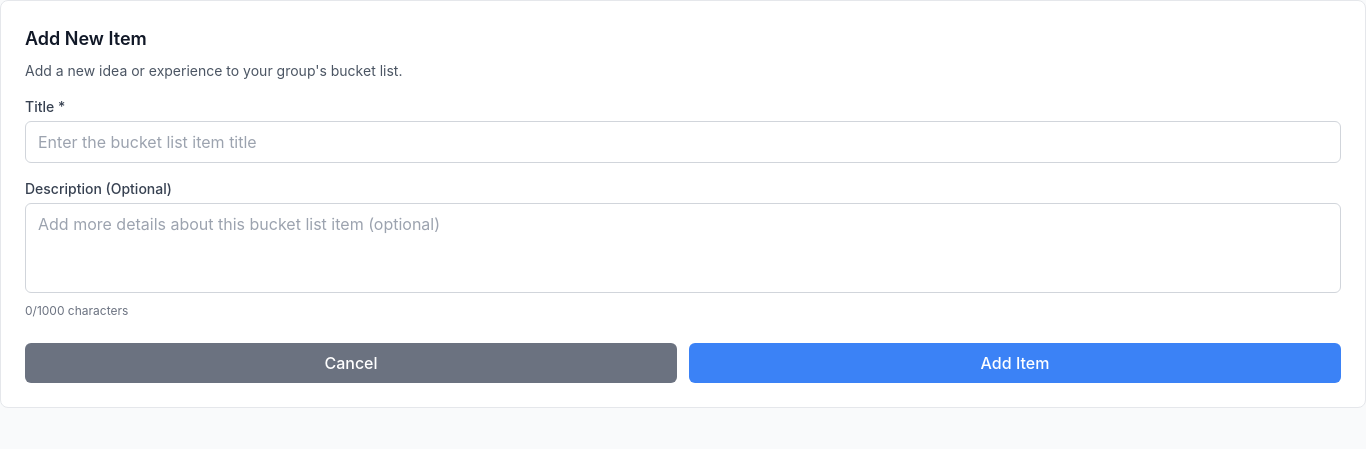
Test: AddItemForm › clears validation errors when user starts typing
This screenshot has width=1366, height=449.
First trigger validation error
Step 1. Click the button "Add Item" → (1015, 363), box x1=689 y1=343 x2=1341 y2=383
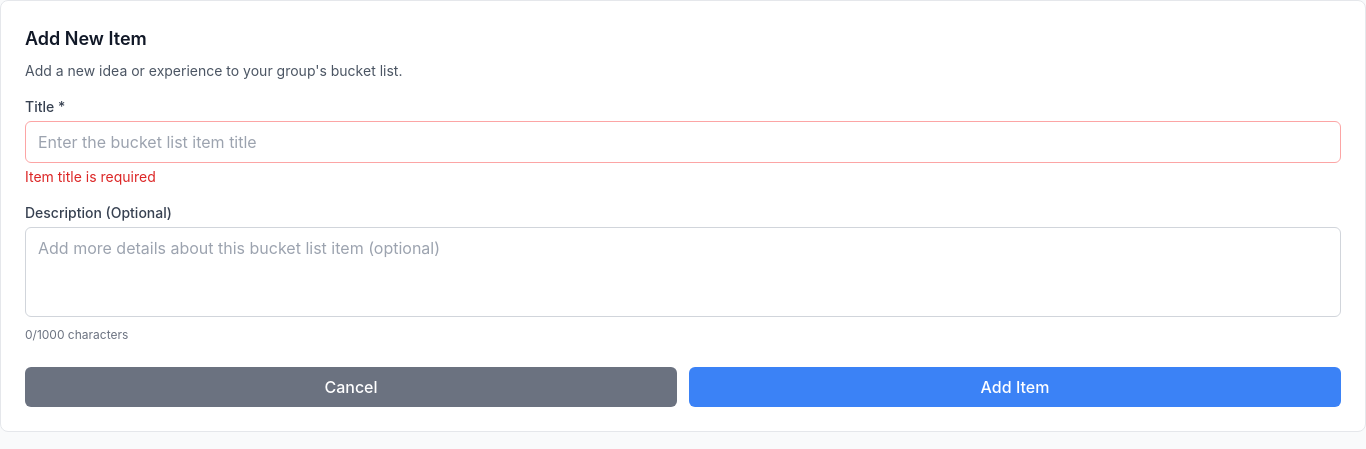
Expected: the text "Item title is required" is shown, x1=25 y1=168 x2=156 y2=185
Then start typing in title field
Step 2. Type "T" into the field labelled "Title *" → (683, 142), box x1=25 y1=121 x2=1341 y2=163
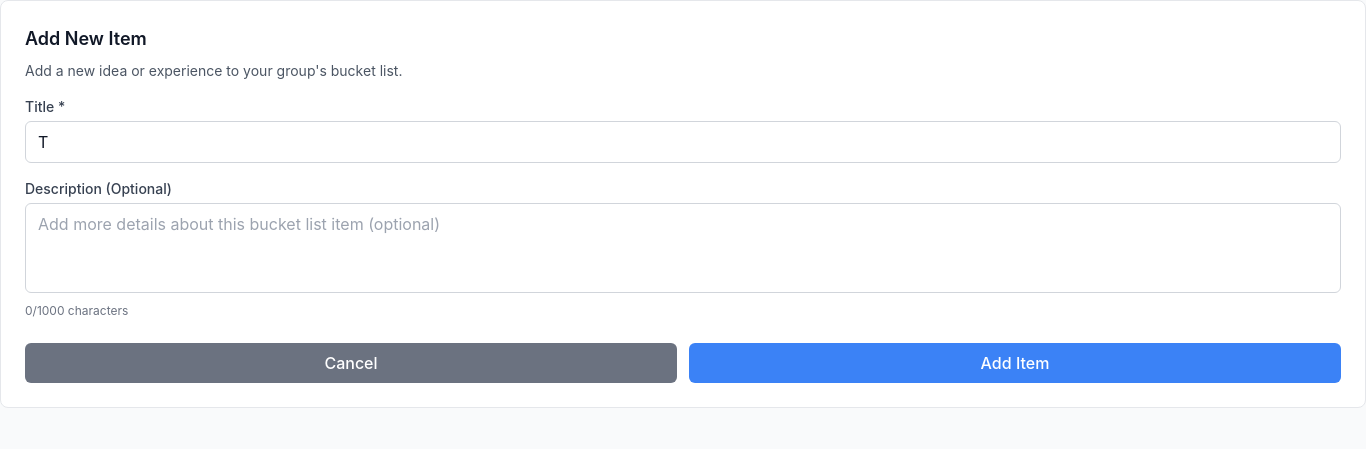
Expected: the text "Item title is required" is gone
